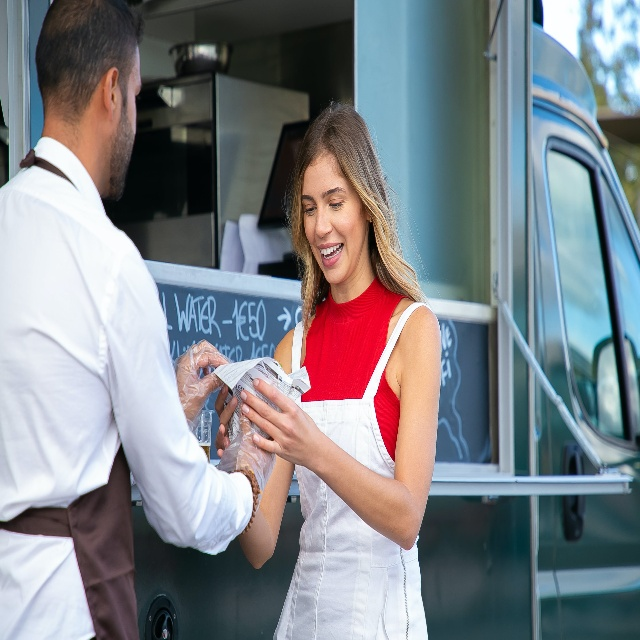Guantes: (216, 401, 276, 512), (174, 339, 233, 433)
Sin_guantes: (238, 376, 315, 469), (175, 340, 230, 422), (238, 400, 275, 494), (212, 381, 239, 458)
